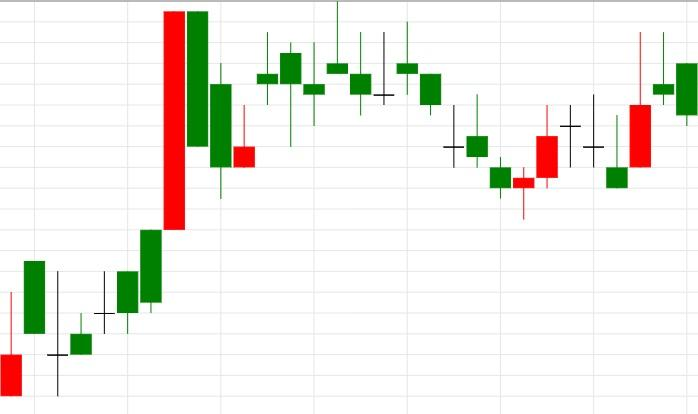morning_star_rise: (396, 20, 558, 219)
